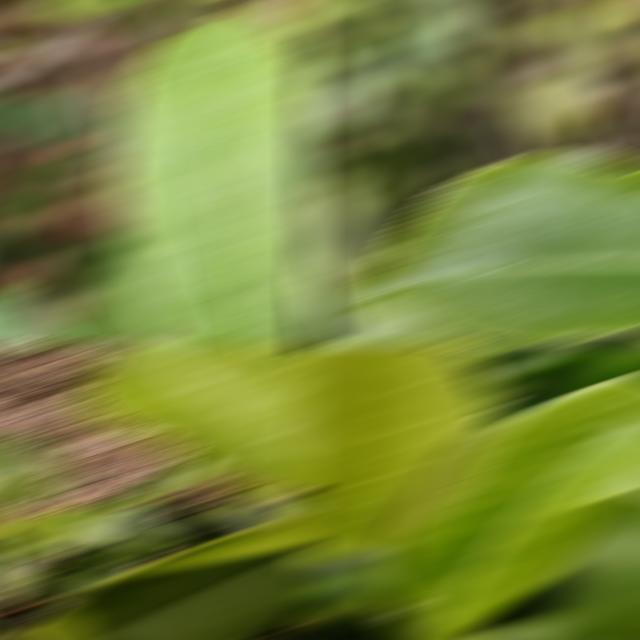Leaf: (106, 10, 316, 342), (388, 376, 640, 633), (351, 157, 640, 342), (298, 348, 499, 550), (4, 523, 316, 637), (78, 348, 316, 490), (538, 495, 640, 637), (388, 418, 500, 539), (58, 249, 163, 342), (58, 506, 198, 554), (36, 554, 151, 604), (0, 439, 66, 506), (0, 96, 102, 139), (0, 512, 110, 548), (404, 3, 484, 52), (0, 543, 54, 603), (549, 348, 640, 383), (212, 496, 306, 527), (23, 159, 81, 204), (109, 474, 182, 499), (38, 3, 147, 13)
